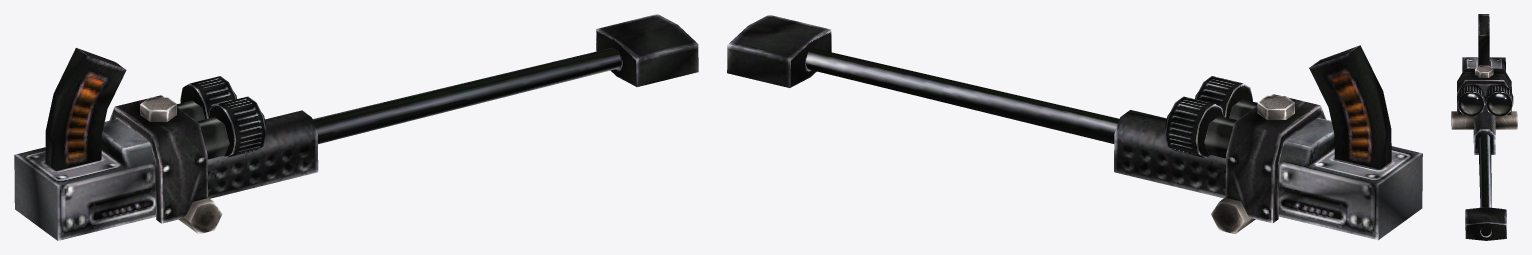
The model's file is Robot01.ChestMachineGun4.fbx.
The picture shows the model from 3 angles, left to right: view 1: azimuth 30°, elevation 25°; view 2: azimuth 150°, elevation 25°; view 3: azimuth 270°, elevation 25°; orthographic projection. The views are drawn at different scales.
Visible parts, largest first — view 1: mesh_623; view 2: mesh_623; view 3: mesh_623.
Part boxes in pixels (x1,y1,x2,y2): mesh_623: (14, 14, 698, 240); mesh_623: (727, 15, 1422, 240); mesh_623: (1451, 14, 1517, 240).
Size of the model in its own units: 192 by 51.11 by 33.73.
